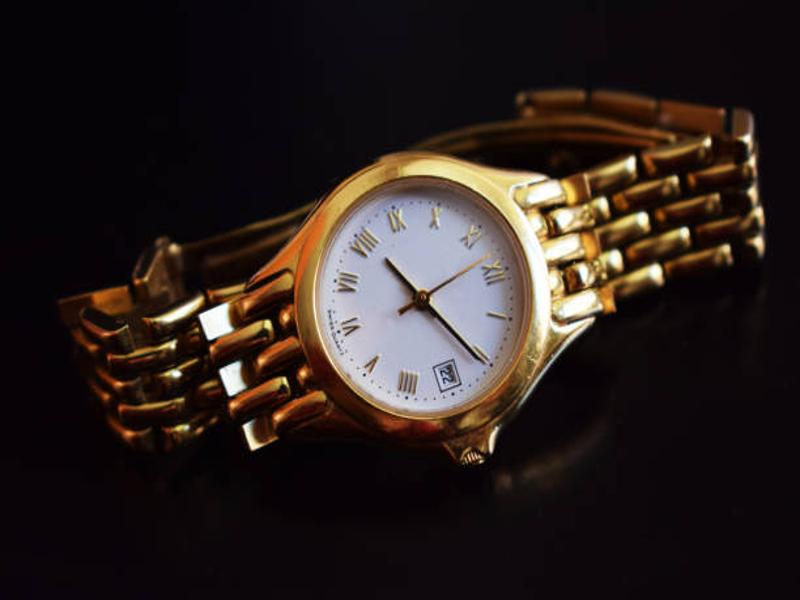watch: (57, 92, 768, 476)
